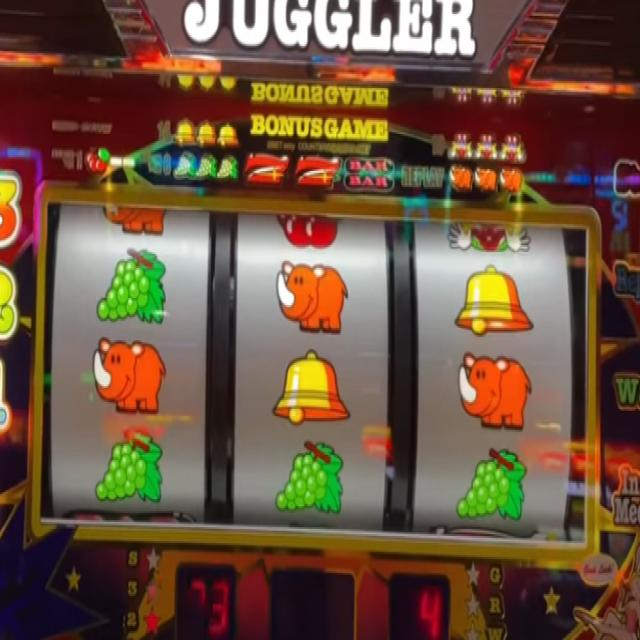bar: (344, 150, 396, 196)
bell: (454, 263, 535, 344), (271, 349, 352, 426), (217, 122, 239, 146), (174, 118, 193, 144), (197, 120, 216, 145)
cherry: (276, 213, 342, 249), (86, 146, 111, 178)
clown: (446, 221, 533, 254), (500, 131, 526, 162), (473, 132, 498, 160), (448, 131, 472, 158)
display: (38, 202, 587, 543)
elephant: (456, 349, 533, 434), (90, 334, 168, 415), (274, 257, 349, 335), (103, 202, 168, 236), (449, 164, 473, 194), (474, 165, 498, 193), (500, 165, 523, 194)
grape: (454, 442, 528, 526), (94, 243, 168, 326), (94, 423, 164, 507), (274, 439, 345, 518), (172, 154, 195, 184), (217, 153, 238, 185), (198, 154, 217, 183)
z: (295, 149, 341, 191), (243, 150, 290, 187)
